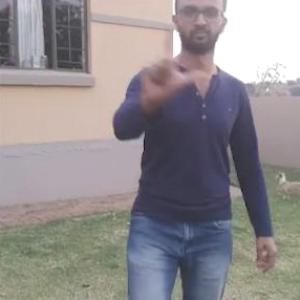land_hand: (131, 26, 208, 116)
